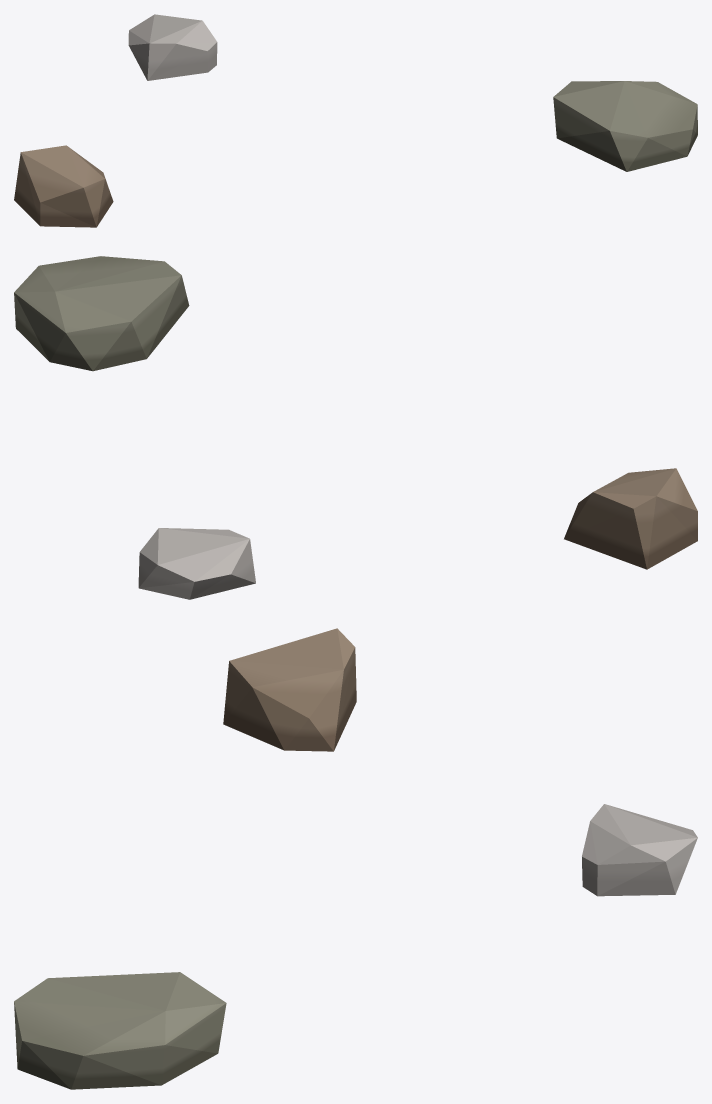
File: um_pebble005.FBX
The picture shows the model from 3 angles, top to bottom: view 1: azimuth 30°, elevation 25°; view 2: azimuth 150°, elevation 25°; view 3: azimuth 270°, elevation 25°; orthographic projection. The views are drawn at different scales.
Visible parts, largest first — view 1: um_pebble005; view 2: um_pebble005; view 3: um_pebble005.
Boxes of the visible parts, x1,y1,x2,y2 form: um_pebble005: (14,14,697,227); um_pebble005: (14,256,697,599); um_pebble005: (14,628,697,1089).
Size of the model in its own units: 1.81 by 0.1564 by 1.32.
